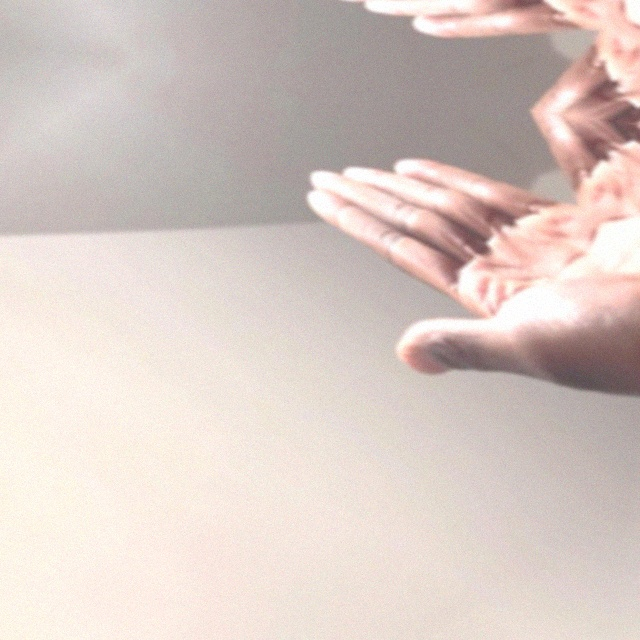Paper: (195, 74, 640, 509)
